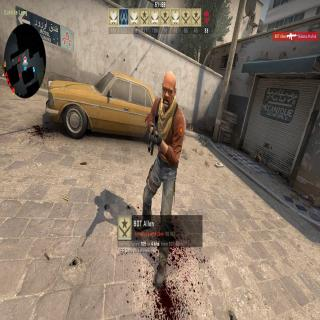T-Body: (138, 59, 186, 288)
T-Head: (161, 73, 177, 109)
